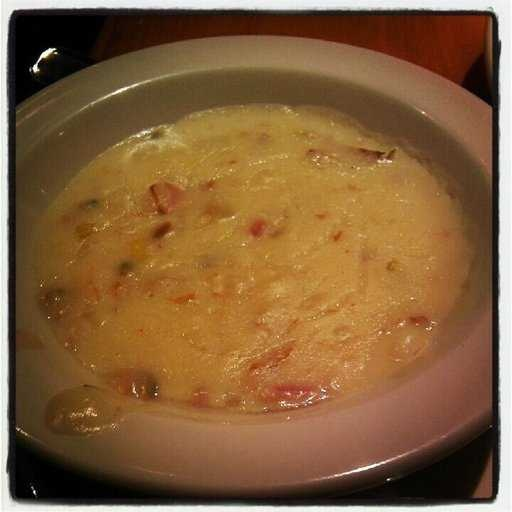soup: (34, 81, 451, 421)
